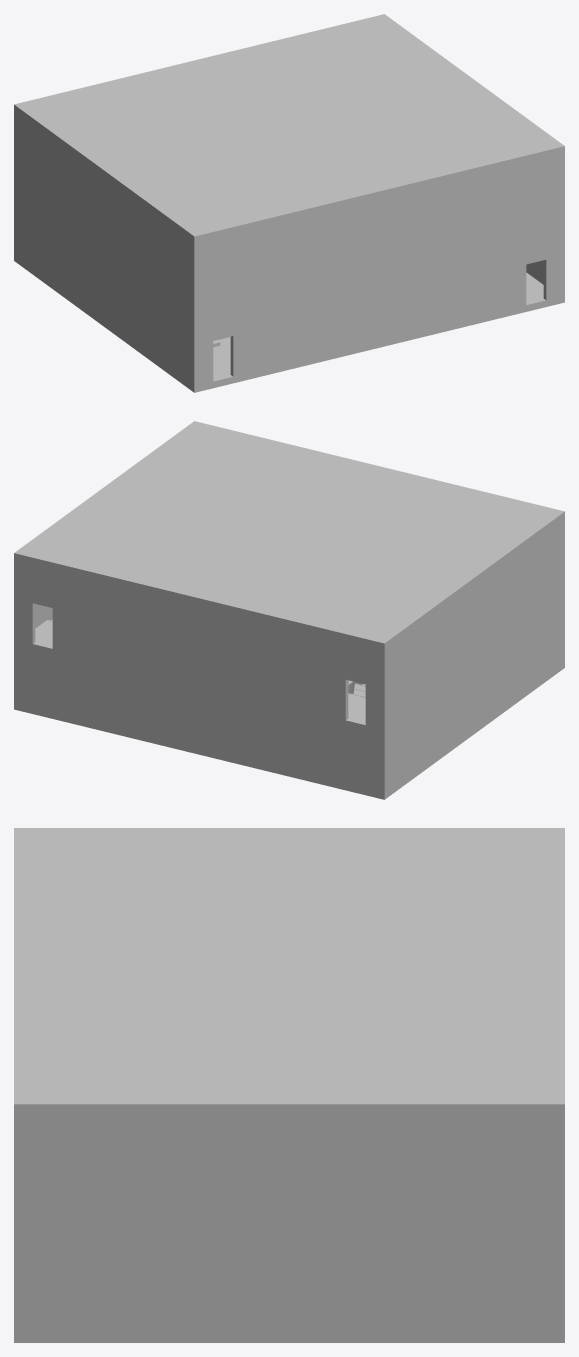
Rendered from CinemaHall07.FBX.
The picture shows the model from 3 angles, top to bottom: view 1: azimuth 30°, elevation 25°; view 2: azimuth 150°, elevation 25°; view 3: azimuth 270°, elevation 25°; orthographic projection. The views are drawn at different scales.
Visible parts, largest first — view 1: Cinema07Wall, Cinema07Floor; view 2: Cinema07Wall, Cinema07Floor; view 3: Cinema07Wall.
Part boxes in pixels (<box>): Cinema07Wall: <box>14,14,564,392</box>; Cinema07Floor: <box>213,272,543,378</box>; Cinema07Wall: <box>14,421,564,799</box>; Cinema07Floor: <box>35,619,365,722</box>; Cinema07Wall: <box>14,828,564,1342</box>.
Bounding box in the file's own units: 2095 × 845 × 1767.
